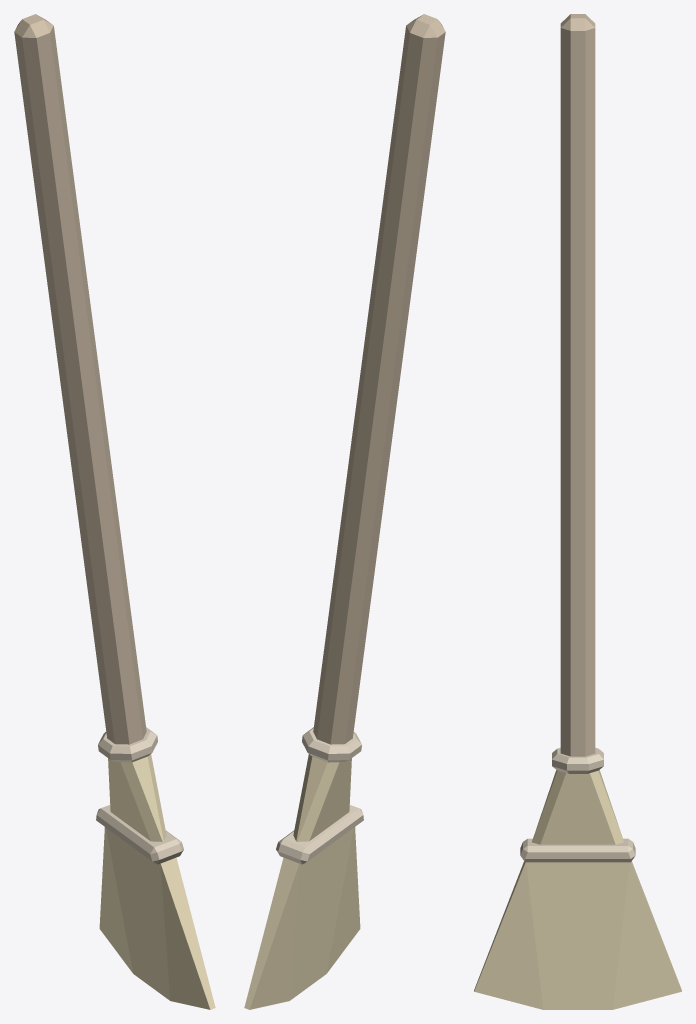
File: Prop_Broom.glb
3 views of the same model, side by side, from view 1: azimuth 30°, elevation 25°; view 2: azimuth 150°, elevation 25°; view 3: azimuth 270°, elevation 25° (orthographic). The views are drawn at different scales.
Visible parts, largest first — view 1: object1; view 2: object1; view 3: object1.
Boxes of the visible parts, <box> form: object1: <box>14,14,215,1009</box>; object1: <box>244,14,445,1009</box>; object1: <box>474,14,681,1009</box>.
Bounding box in the file's own units: 0.1245 × 0.7946 × 0.16.
